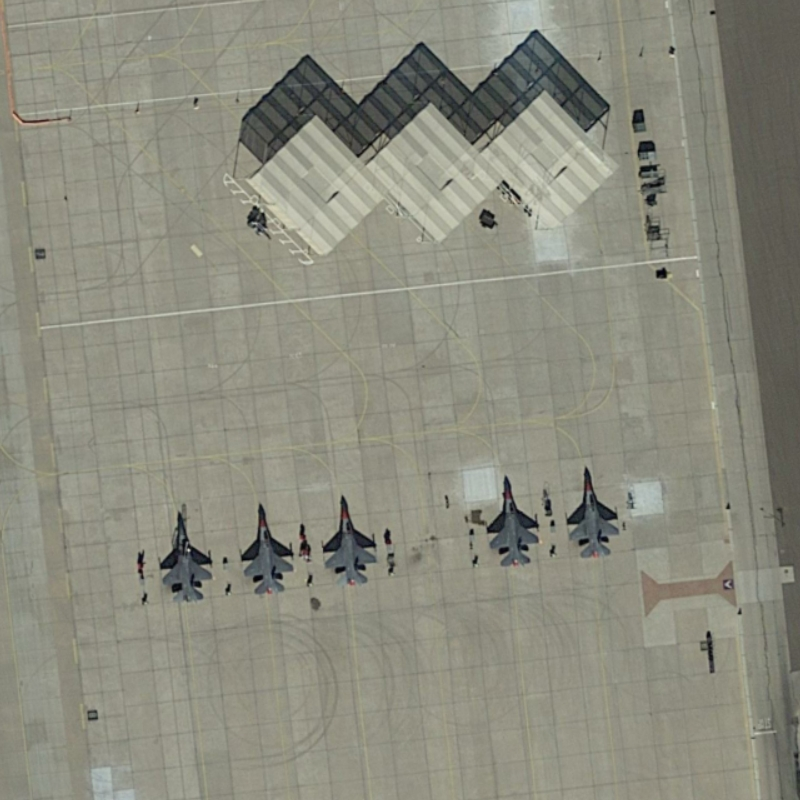A5: (237, 506, 298, 597), (157, 511, 216, 604), (563, 471, 623, 560), (323, 500, 382, 590), (488, 480, 541, 569)
